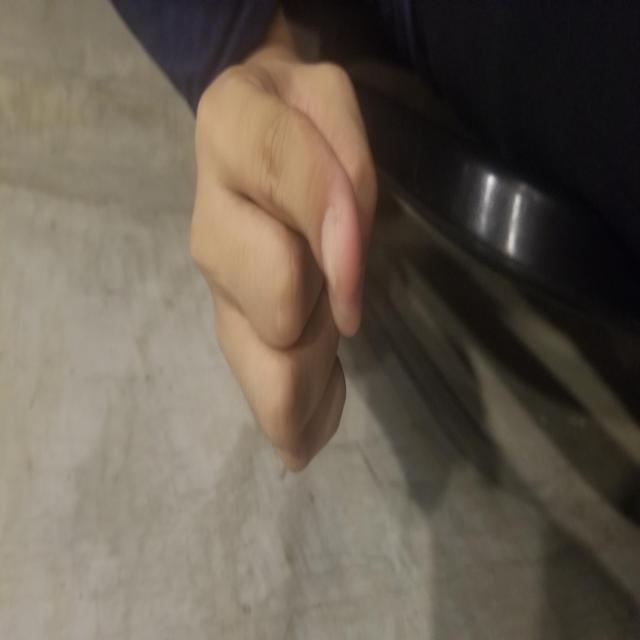Z: (164, 187, 583, 381)
